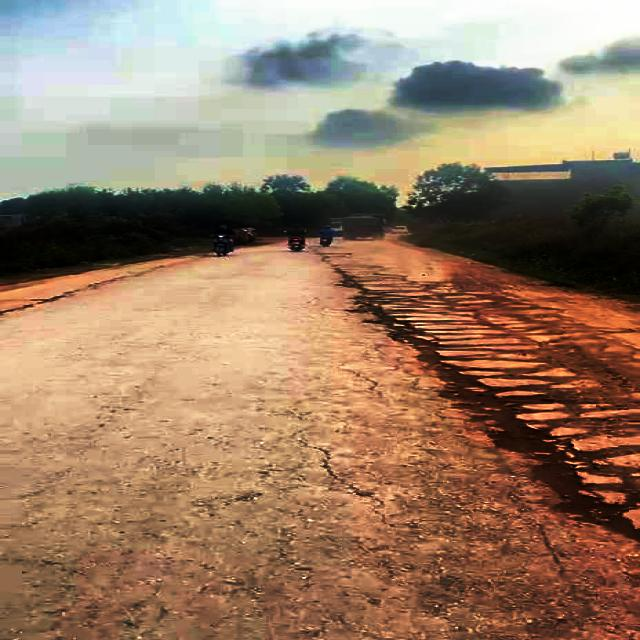pothole: (428, 367, 584, 454), (523, 452, 640, 546), (364, 304, 461, 371), (337, 268, 408, 314)
